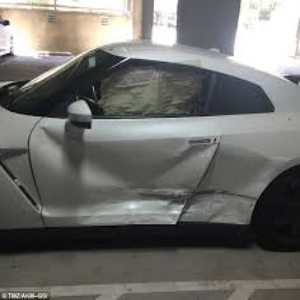door_scratch: (98, 172, 258, 215)
